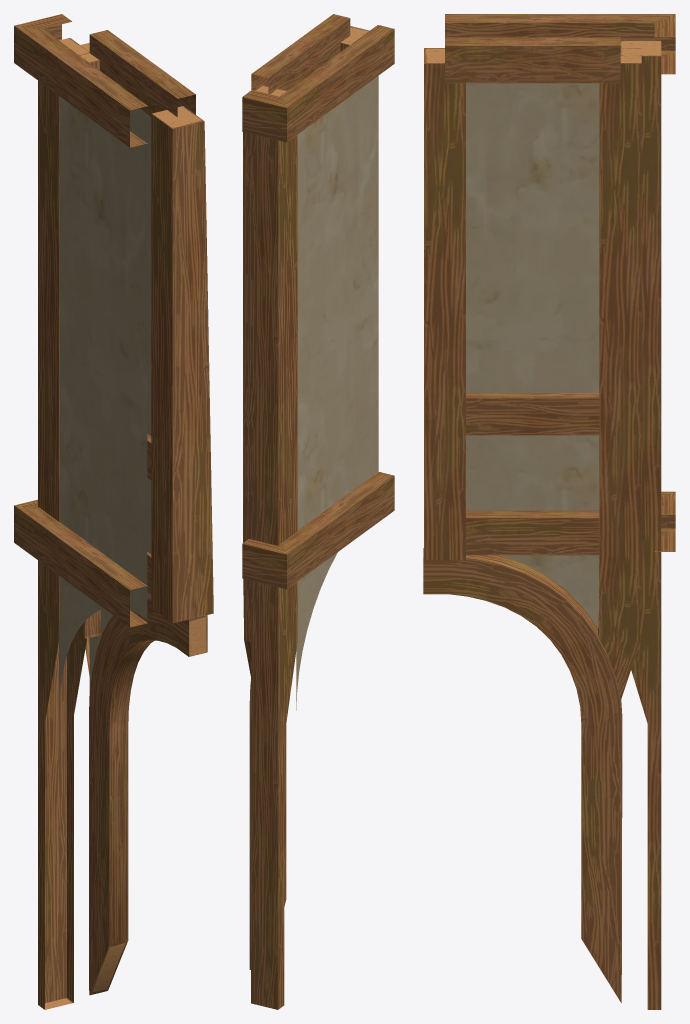
The model's file is overhang_side_plaster_short_r.glb.
3 views of the same model, side by side, from view 1: azimuth 30°, elevation 25°; view 2: azimuth 150°, elevation 25°; view 3: azimuth 270°, elevation 25° (orthographic). The views are drawn at different scales.
Size of the model in its own units: 0.4794 by 6.12 by 1.44.
2 materials, 2 textured.
